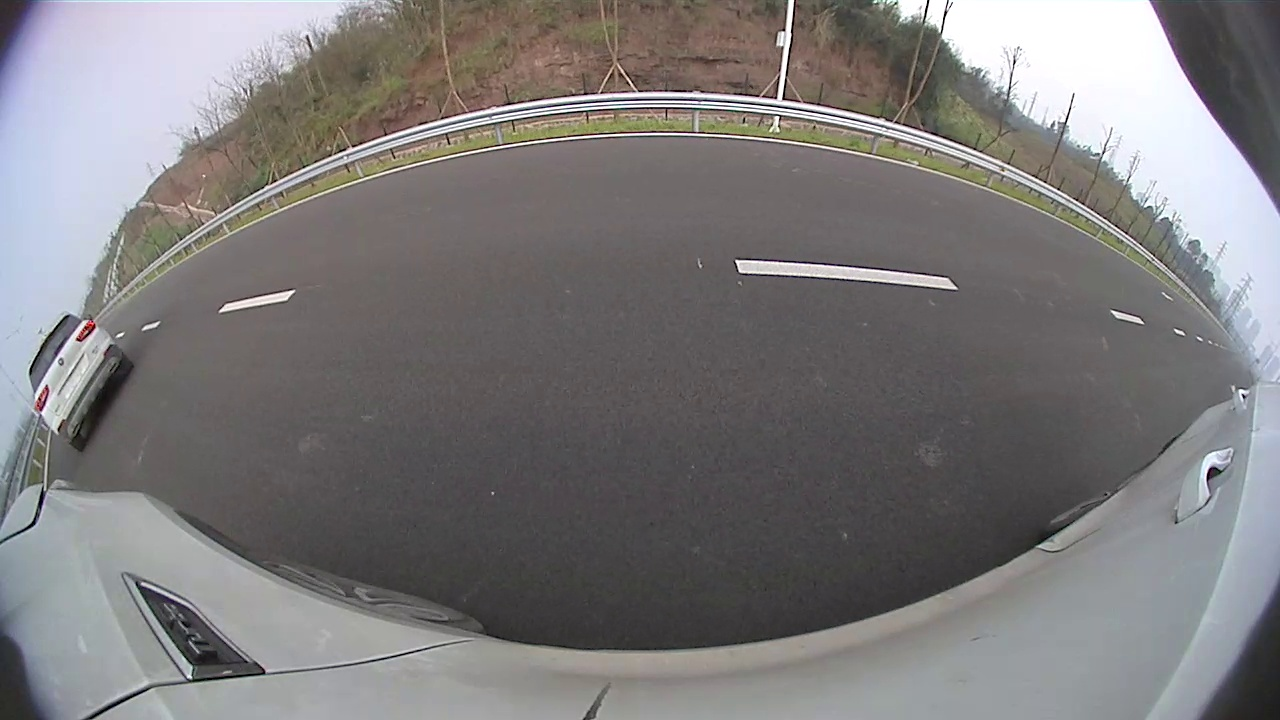car: (27, 314, 133, 454)
